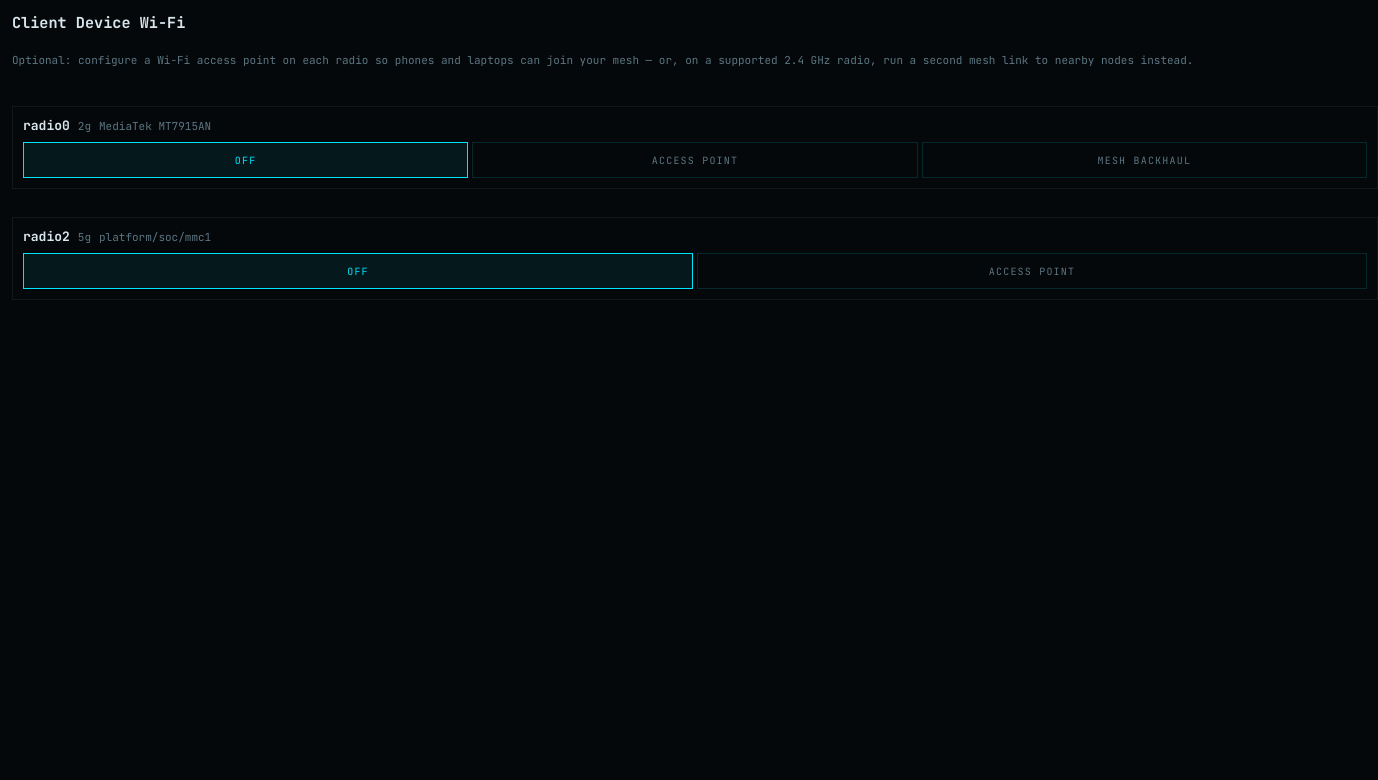
Scenario: StepAPsRadioMode › choosing Mesh backhaul shows mesh ID + passphrase and hides the AP form
Click the radio button labelled "Mesh backhaul": (1144, 160) [922,142,1367,178]
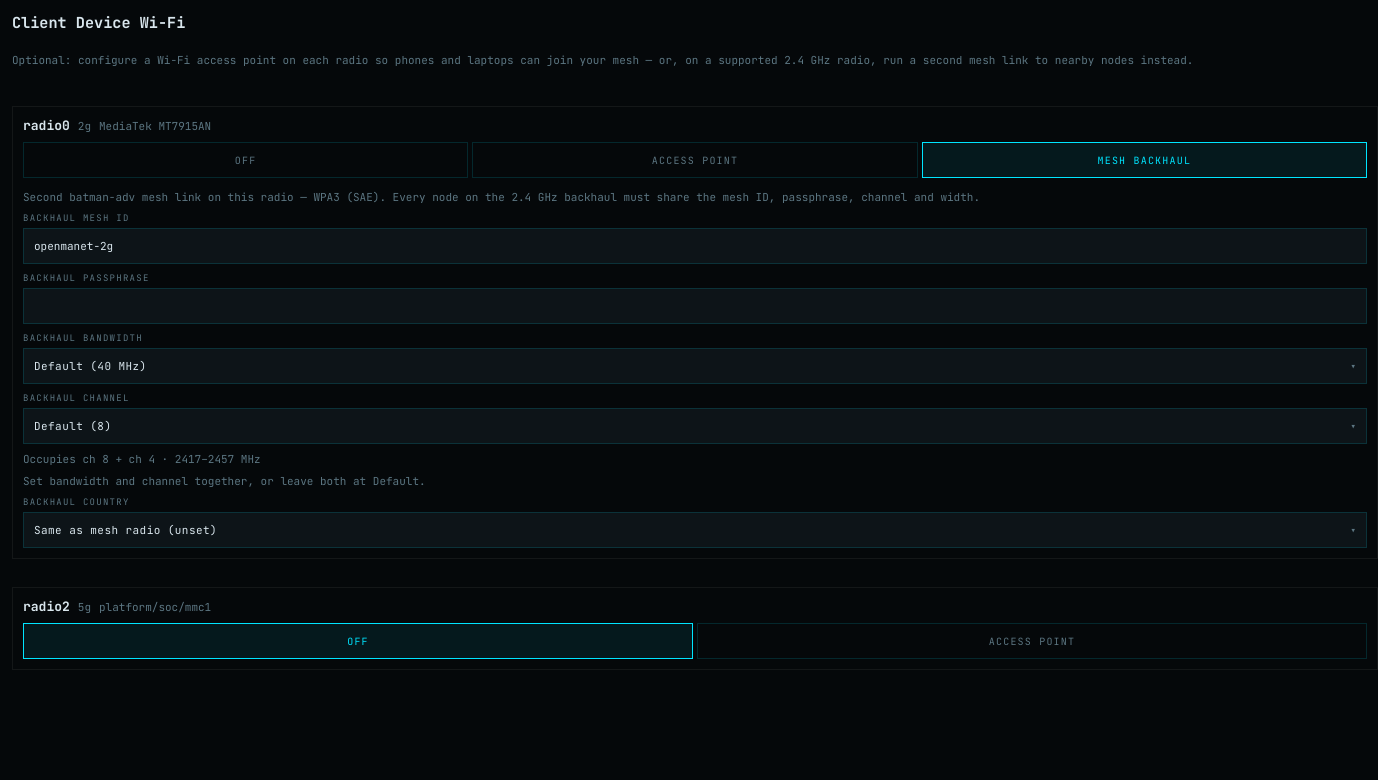
expect the field labelled "Backhaul mesh ID" holds "openmanet-2g": met, box [23,228,1367,264]
expect the password field labelled "Backhaul passphrase" is shown: met, box [23,288,1367,324]
